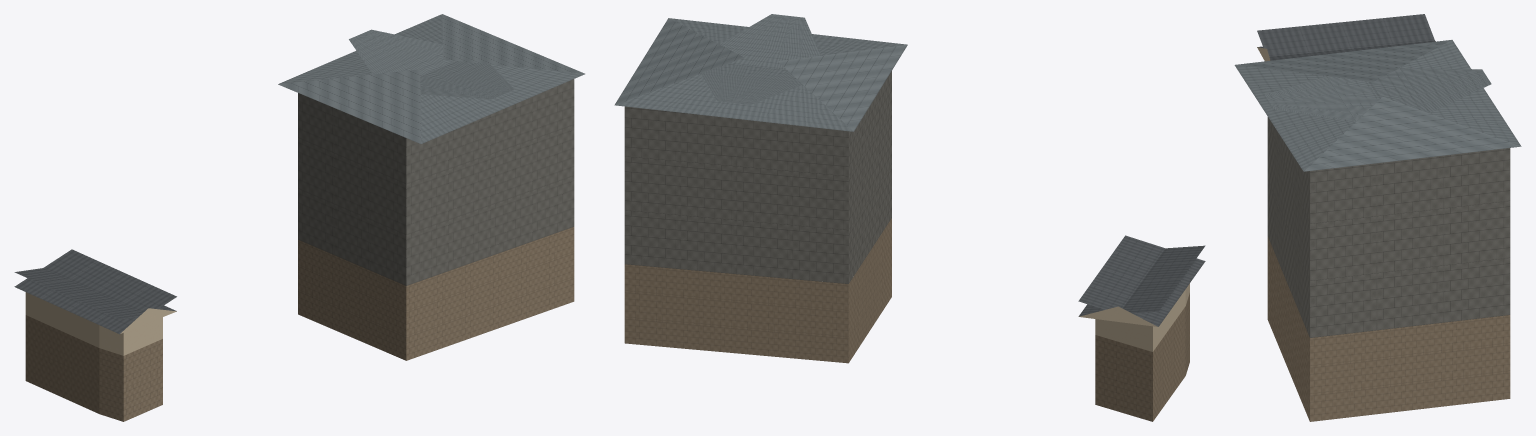
The model's file is bld_c-10_40_512.gltf.
3 renders of one model, left to right at view 1: azimuth 30°, elevation 25°; view 2: azimuth 150°, elevation 25°; view 3: azimuth 270°, elevation 25°, orthographic. The views are drawn at different scales.
Visible parts, largest first — view 1: bld_c-10_40_512; view 2: bld_c-10_40_512; view 3: bld_c-10_40_512.
Boxes of the visible parts, <box> form: bld_c-10_40_512: <box>14,14,584,421</box>; bld_c-10_40_512: <box>614,14,1205,421</box>; bld_c-10_40_512: <box>1234,14,1521,421</box>.
Size of the model in its own units: 36.88 by 16.5 by 15.83.
6 materials, 6 textured.
